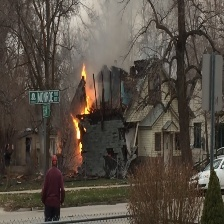fire: (71, 54, 95, 169)
